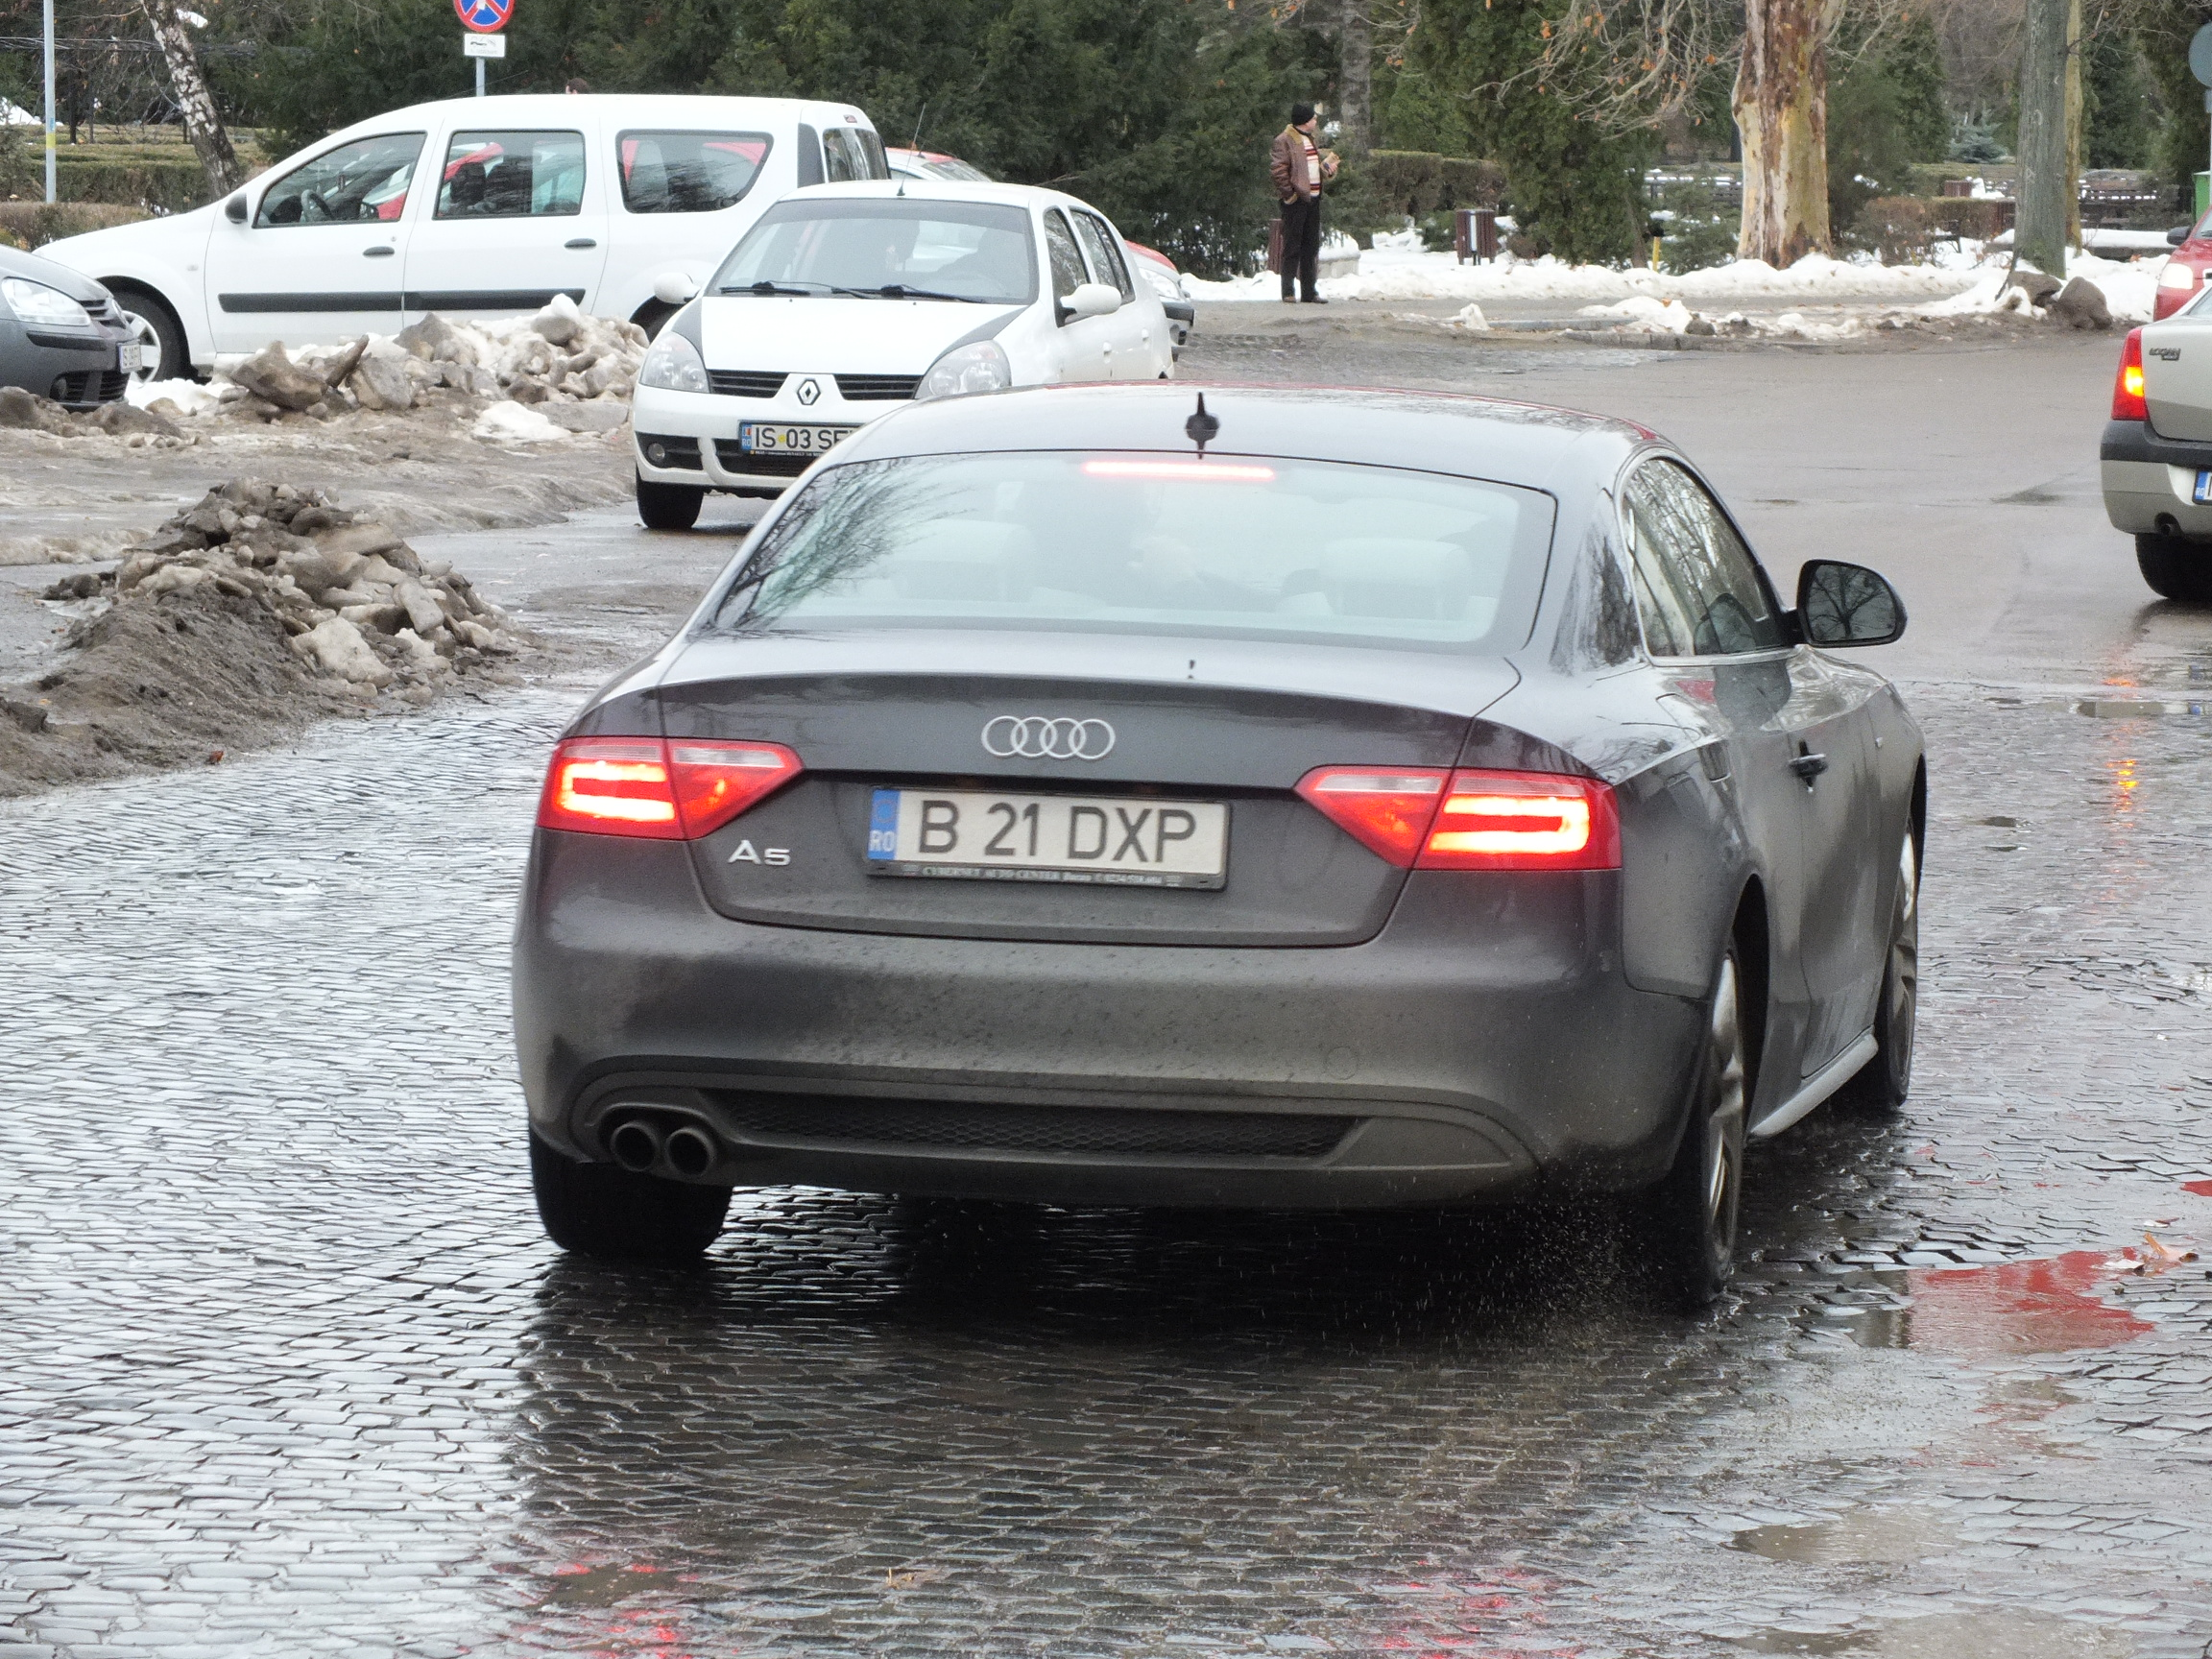B21DXP: (869, 794, 1224, 887)
